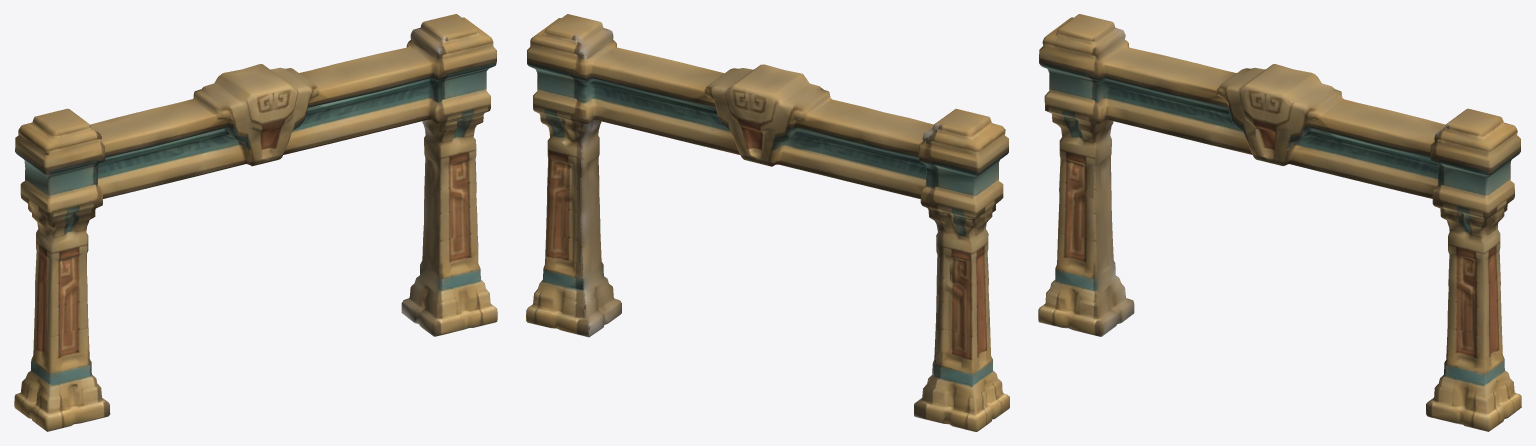
File: SM_Env_DesertGate.glb
The picture shows the model from 3 angles, left to right: view 1: azimuth 30°, elevation 25°; view 2: azimuth 150°, elevation 25°; view 3: azimuth 330°, elevation 25°; orthographic projection.
Parts seen in each view (by area): view 1: SM_Env_DesertGate_LOD0; view 2: SM_Env_DesertGate_LOD0; view 3: SM_Env_DesertGate_LOD0.
Boxes of the visible parts, x1,y1,x2,y2 form: SM_Env_DesertGate_LOD0: (14,14,497,431); SM_Env_DesertGate_LOD0: (526,14,1009,431); SM_Env_DesertGate_LOD0: (1038,14,1521,431).
Bounding box in the file's own units: 10.91 × 6.76 × 1.41.
1 material, 1 textured.
